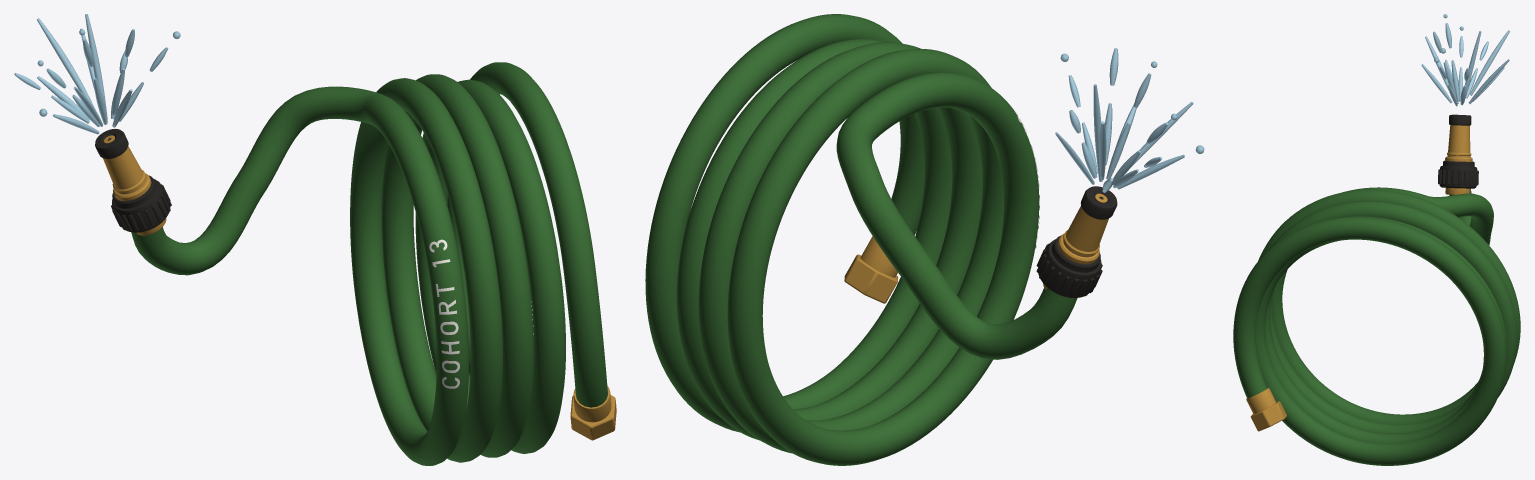
The model's file is hose.glb.
3 renders of one model, left to right at view 1: azimuth 30°, elevation 25°; view 2: azimuth 150°, elevation 25°; view 3: azimuth 270°, elevation 25°, orthographic. The views are drawn at different scales.
Visible parts, largest first — view 1: hose, spray, ferrule, collar, print; view 2: hose, spray, ferrule, collar; view 3: hose, spray, ferrule, collar.
Part boxes in pixels (x1,y1,x2,y2): hose: [131, 62, 607, 465]; spray: [14, 14, 180, 134]; ferrule: [103, 135, 616, 440]; collar: [95, 128, 171, 232]; print: [429, 239, 459, 388]; hose: [645, 14, 1077, 465]; spray: [1055, 48, 1204, 192]; ferrule: [844, 193, 1108, 303]; collar: [1036, 186, 1117, 297]; hose: [1233, 187, 1520, 465]; spray: [1421, 14, 1509, 106]; ferrule: [1246, 125, 1472, 431]; collar: [1438, 114, 1478, 188].
Size of the model in its own units: 0.5226 by 0.4858 by 0.392.
